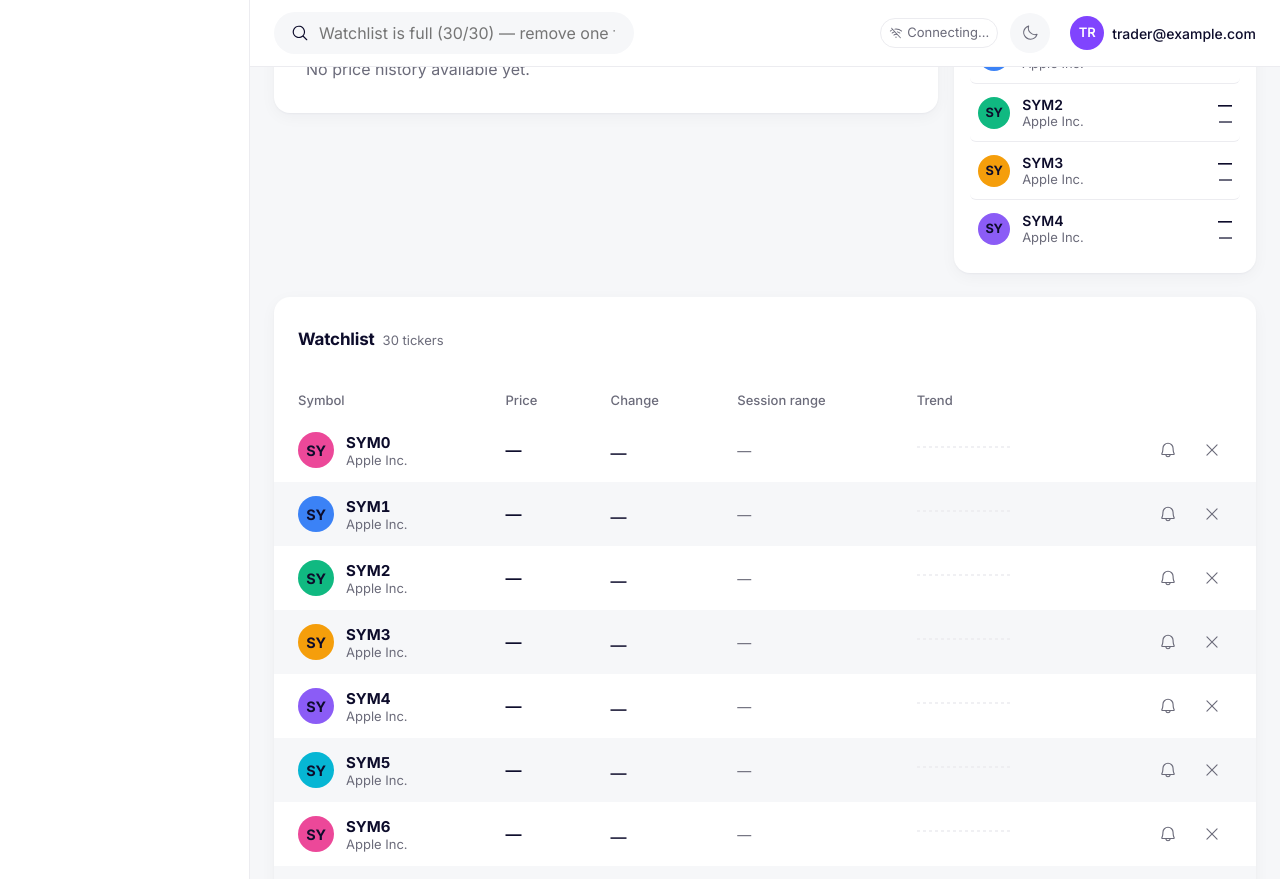
Test: App — removing from the watchlist › re-enables search after removing an item from a full (30-item) watchlist
(page scrolled)
Expected: the field named "search for a stock ticker" is disabled, [317,21,617,45]
Click the button named "Remove SYM0 from watchlist" at (1212, 450), box [1192,430,1232,470]
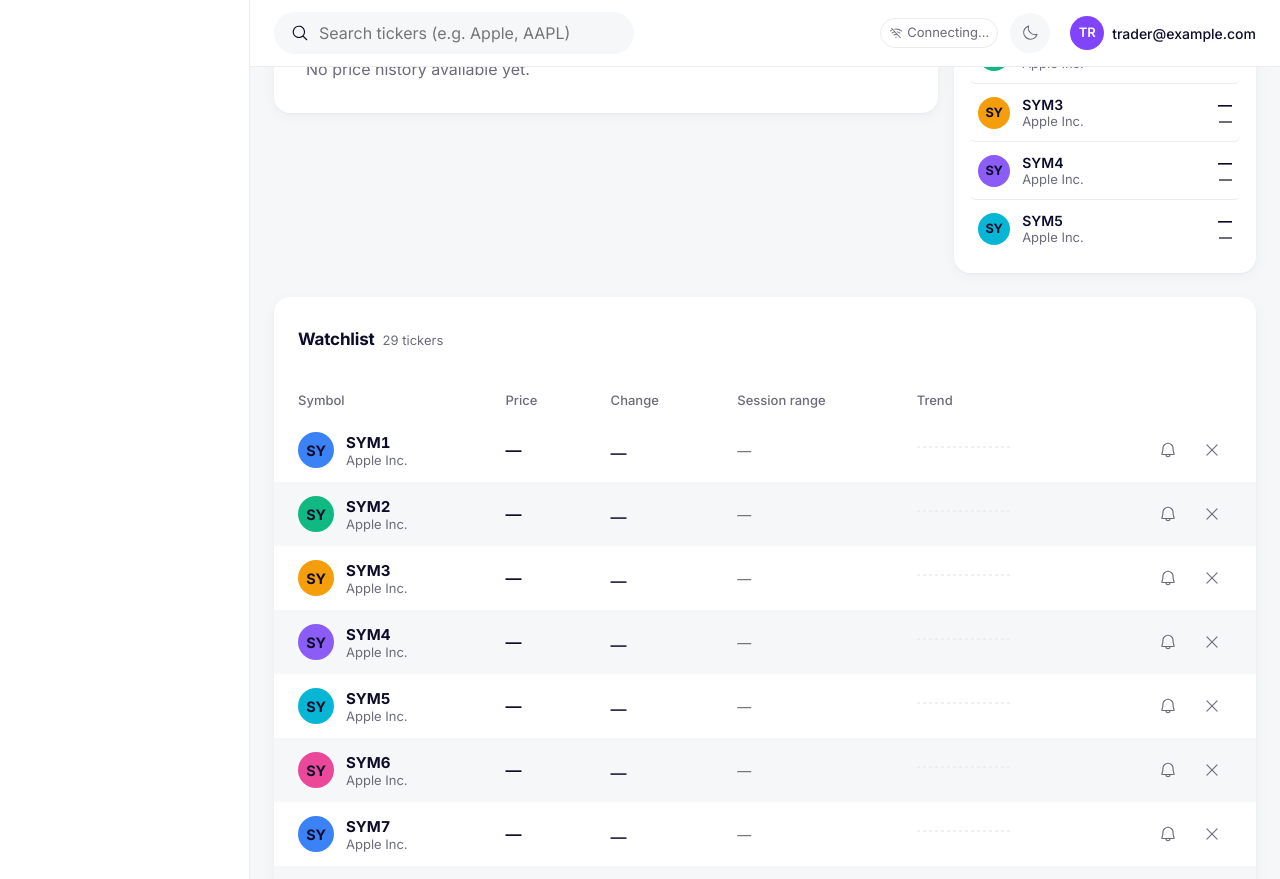
Result: the field named "search for a stock ticker" is enabled at [317,21,617,45]
